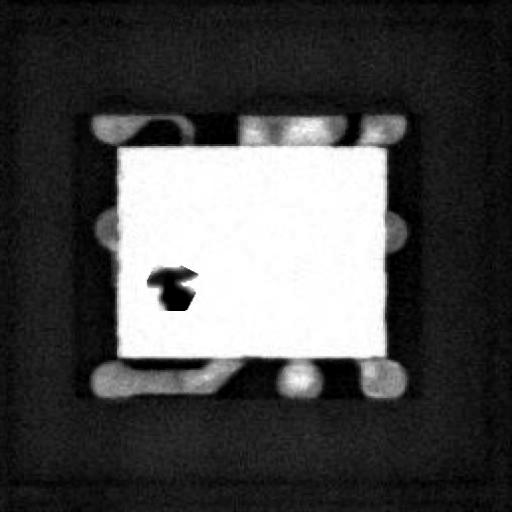DIE_INK: (145, 262, 198, 313)
